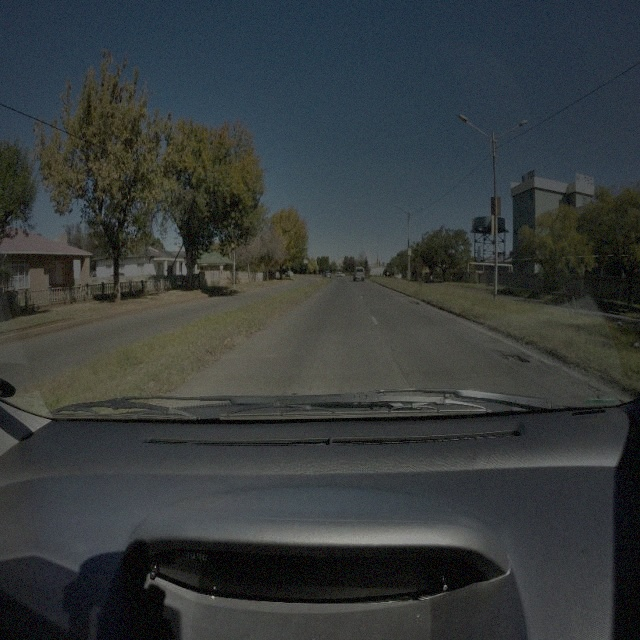pothole: (495, 348, 530, 363), (406, 298, 420, 306)
